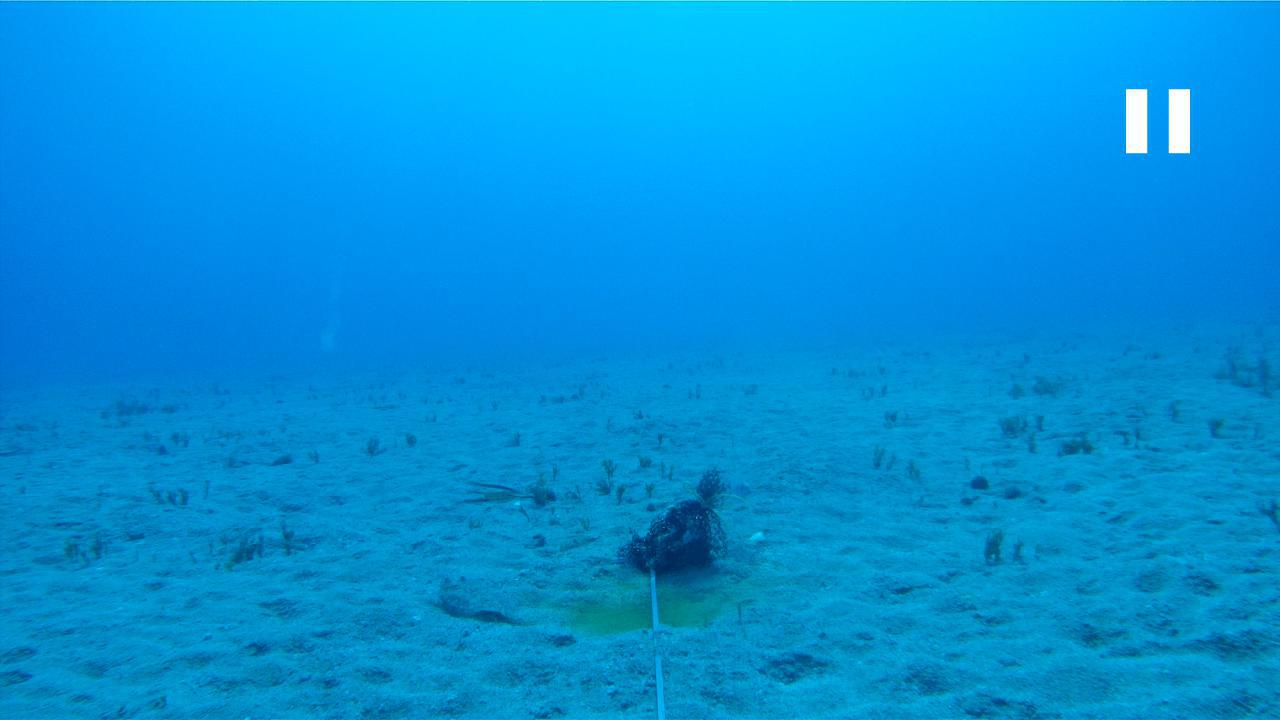bothus: (436, 573, 540, 628)
